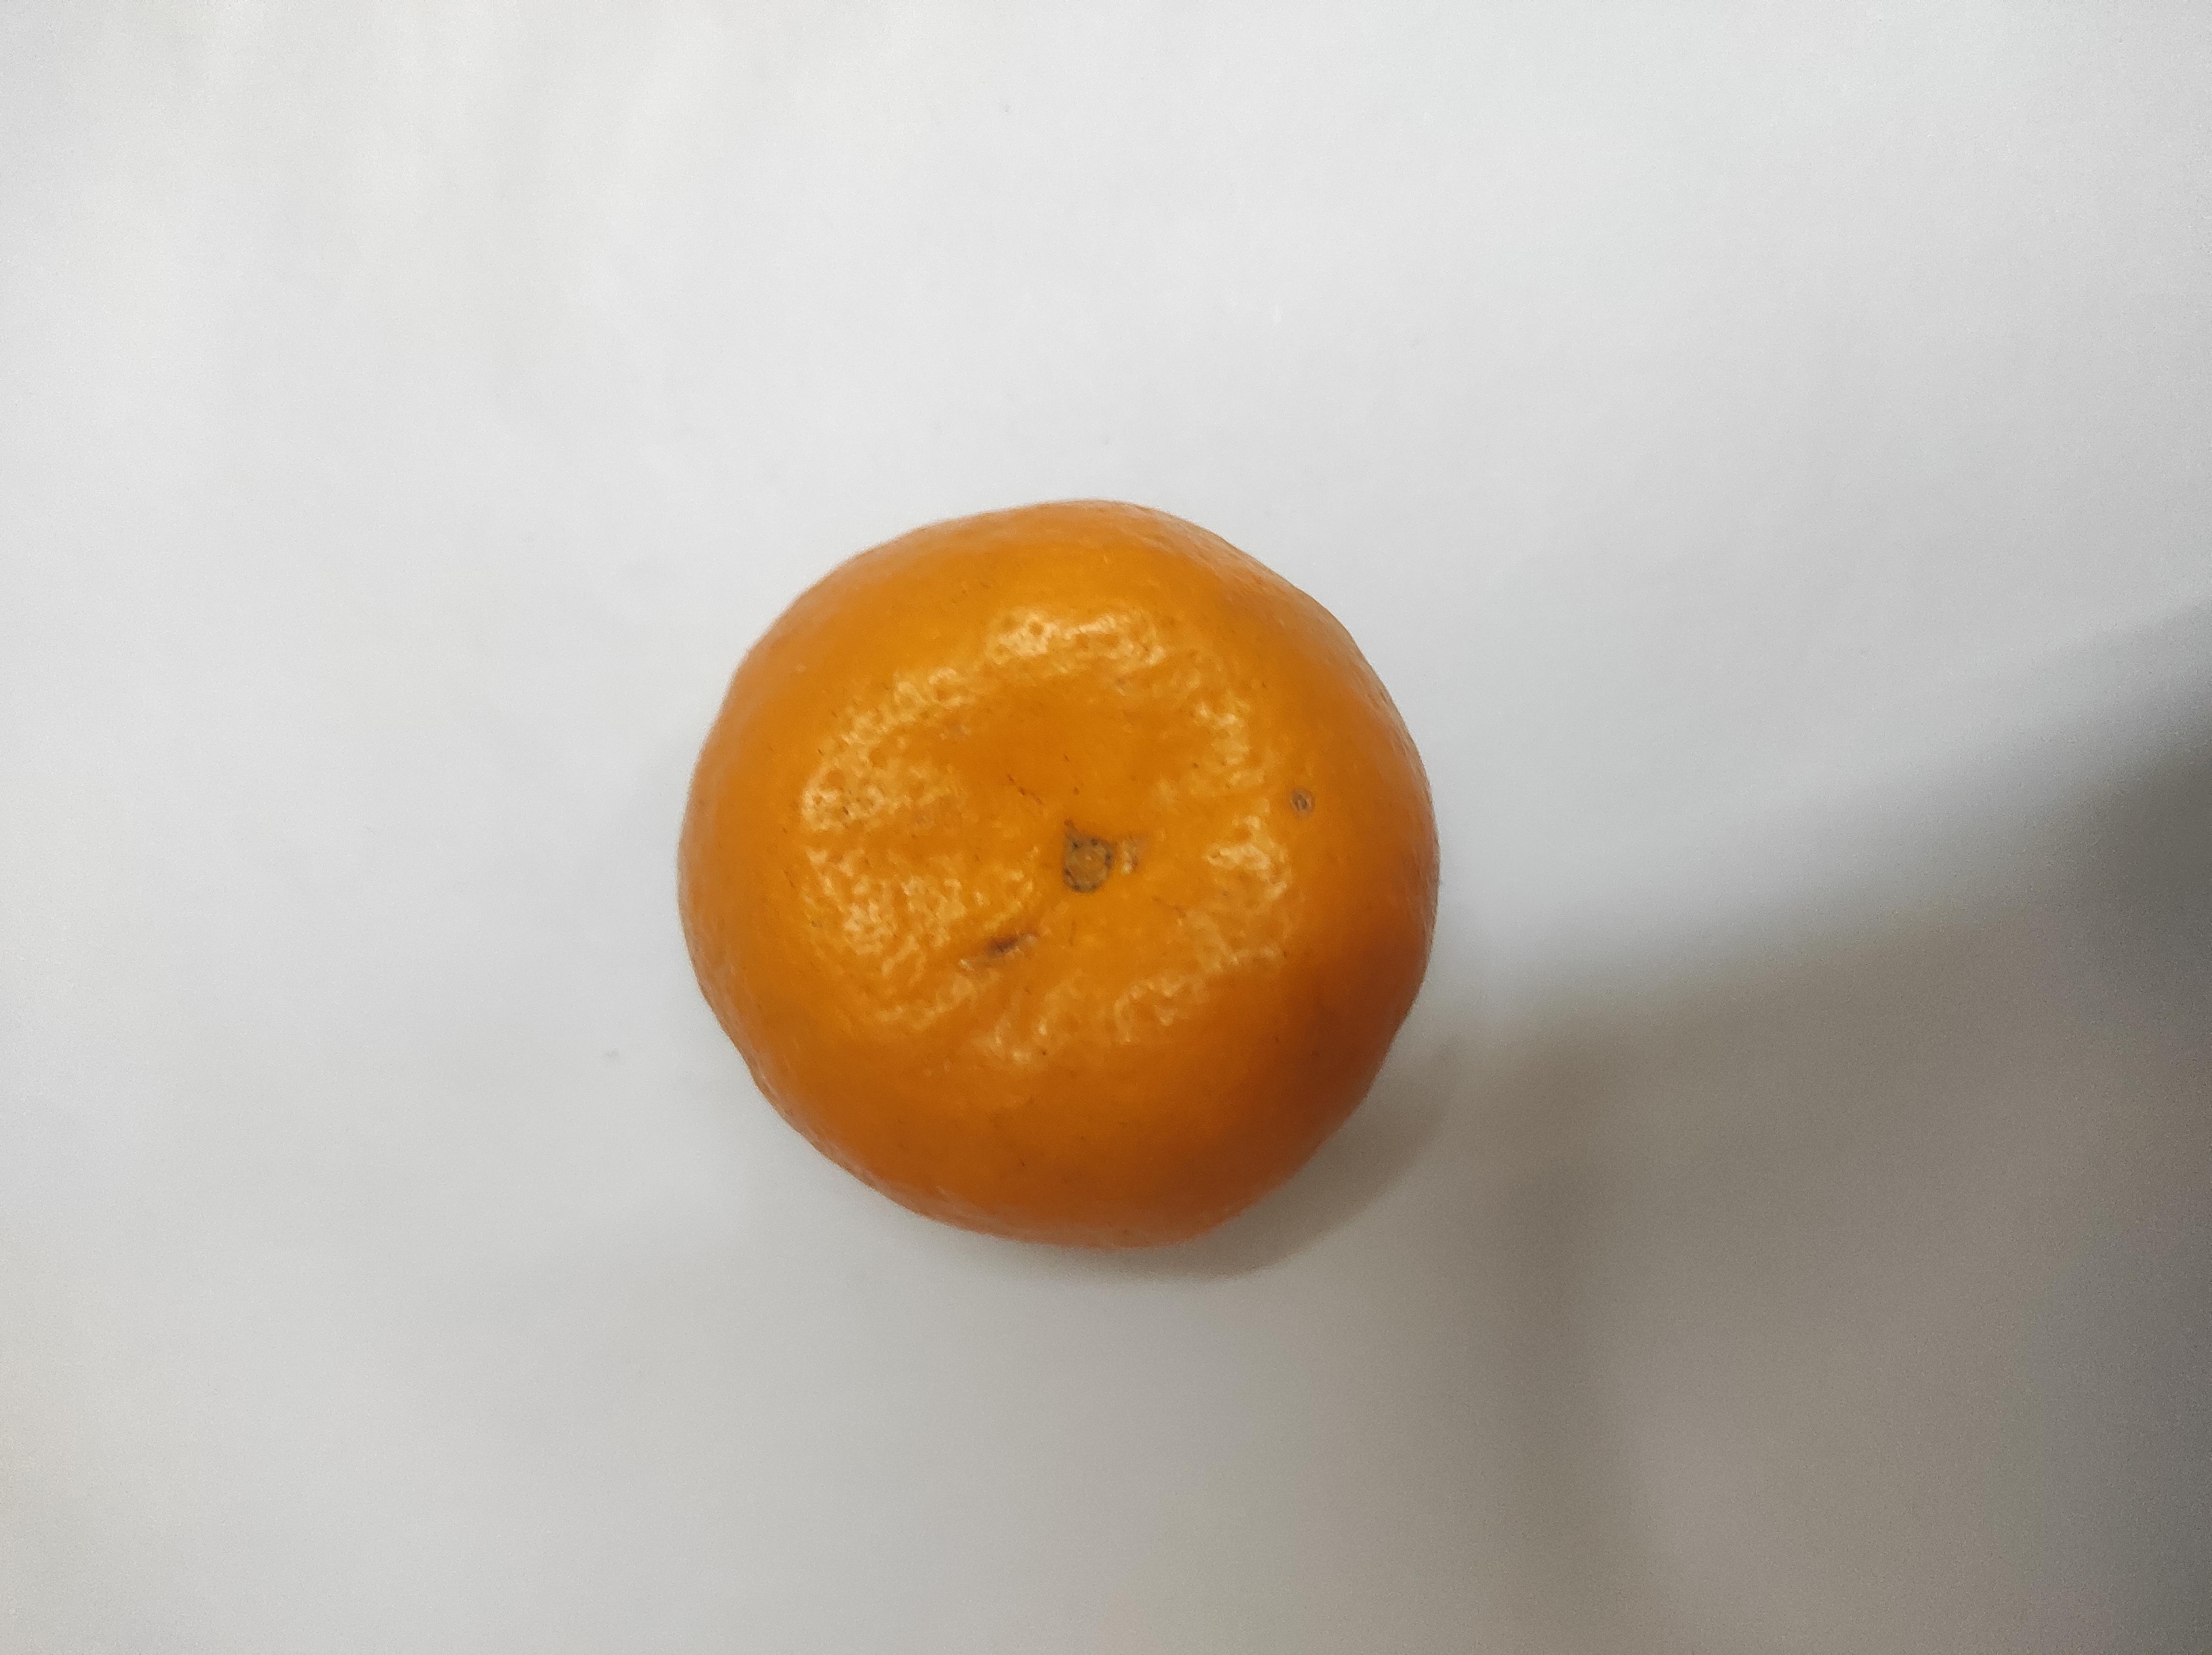Unripe: (673, 495, 1449, 1245)
